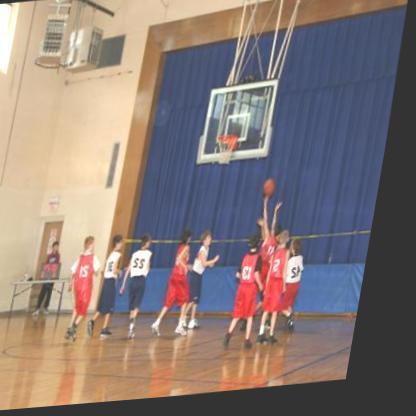basketball: (268, 185, 283, 200)
